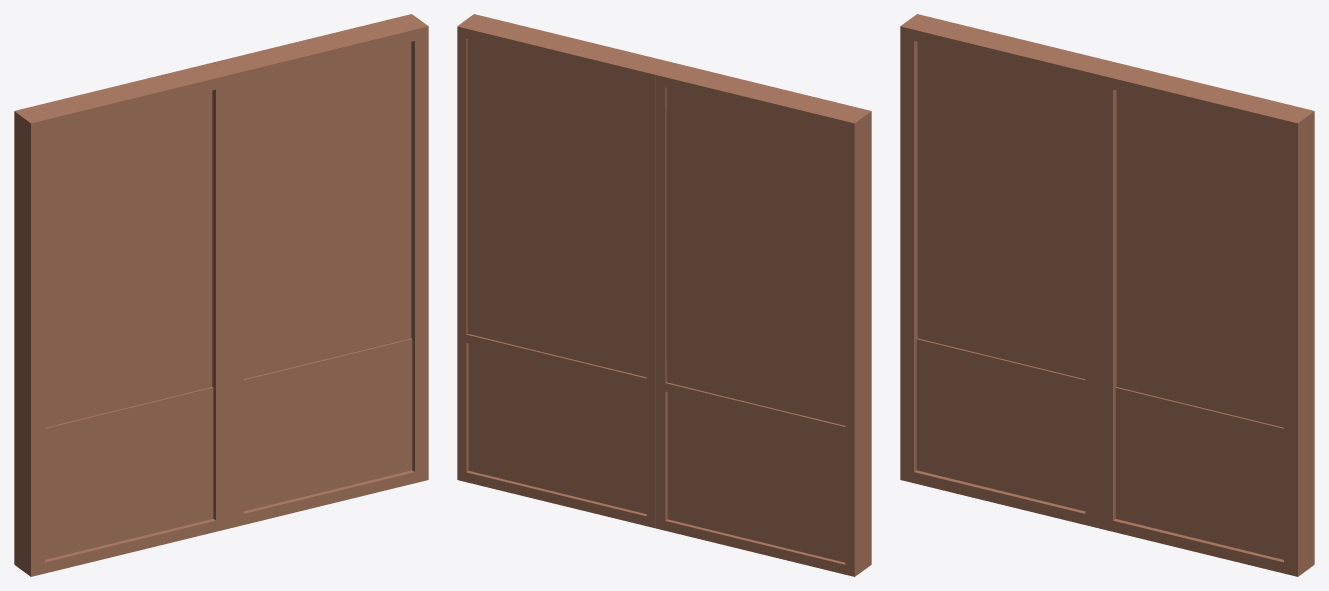
Rendered from Village_Door_B.fbx.
3 views of the same model, side by side, from view 1: azimuth 30°, elevation 25°; view 2: azimuth 150°, elevation 25°; view 3: azimuth 330°, elevation 25° (orthographic).
Parts seen in each view (by area): view 1: Village_Door_A.008; view 2: Village_Door_A.008; view 3: Village_Door_A.008.
Part boxes in pixels (x1,y1,x2,y2): Village_Door_A.008: (14, 14, 428, 576); Village_Door_A.008: (457, 14, 871, 576); Village_Door_A.008: (900, 14, 1314, 576).
Size of the model in its own units: 165 by 180 by 12.22.
